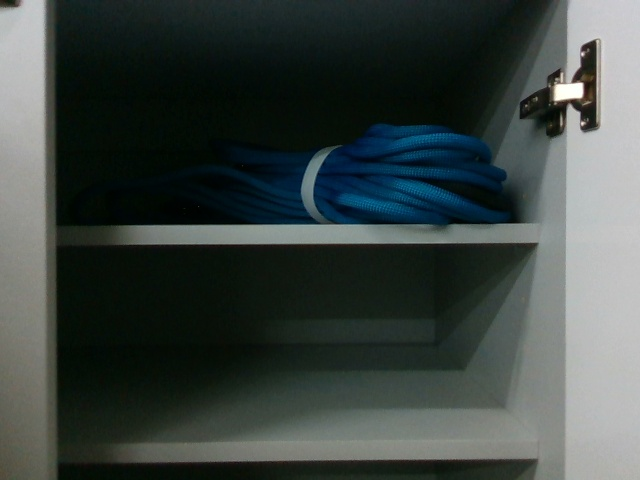rope: (248, 139, 511, 227)
